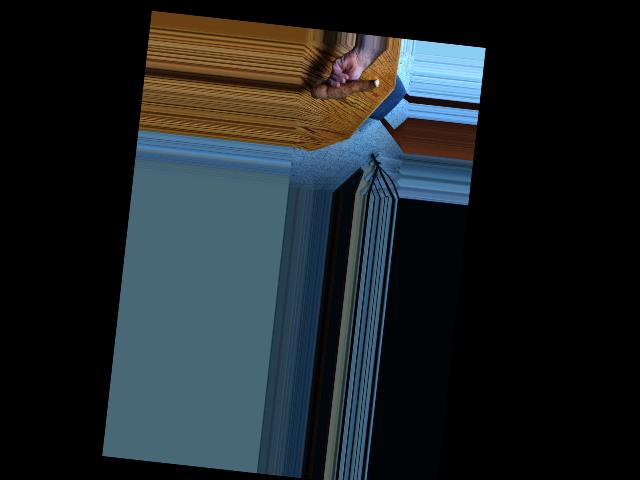sweet_potato: (311, 71, 381, 108)
